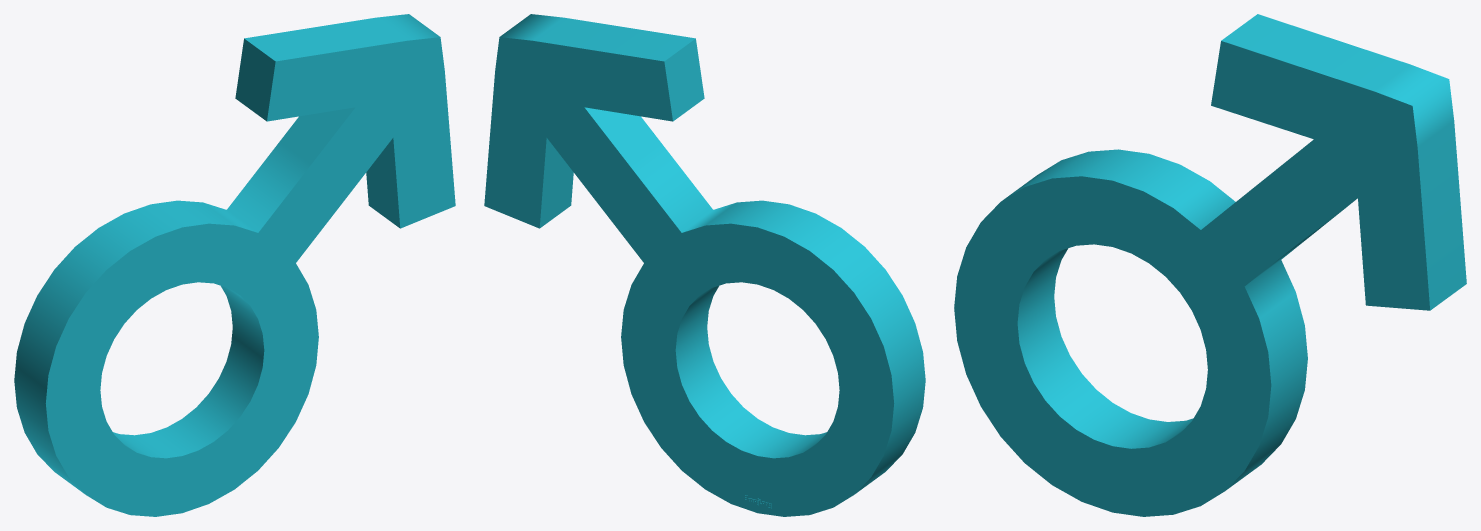
The model's file is male_sign.fbx.
The picture shows the model from 3 angles, left to right: view 1: azimuth 30°, elevation 25°; view 2: azimuth 150°, elevation 25°; view 3: azimuth 330°, elevation 25°; orthographic projection. The views are drawn at different scales.
Parts seen in each view (by area): view 1: Circle.2635; view 2: Circle.2635; view 3: Circle.2635.
Boxes of the visible parts, x1,y1,x2,y2 form: Circle.2635: (14, 14, 455, 516); Circle.2635: (484, 14, 925, 516); Circle.2635: (954, 14, 1466, 516).
Size of the model in its own units: 180 by 180 by 24.24.
1 material, 1 textured.
